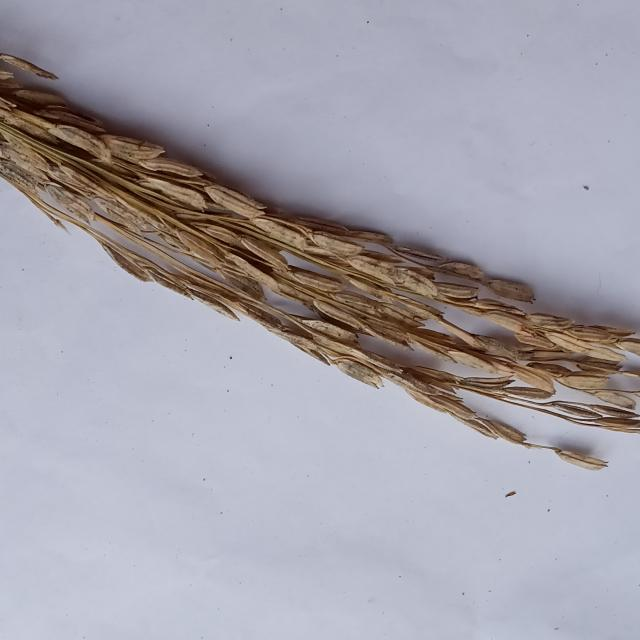Neck_Blast: (0, 34, 640, 479)
